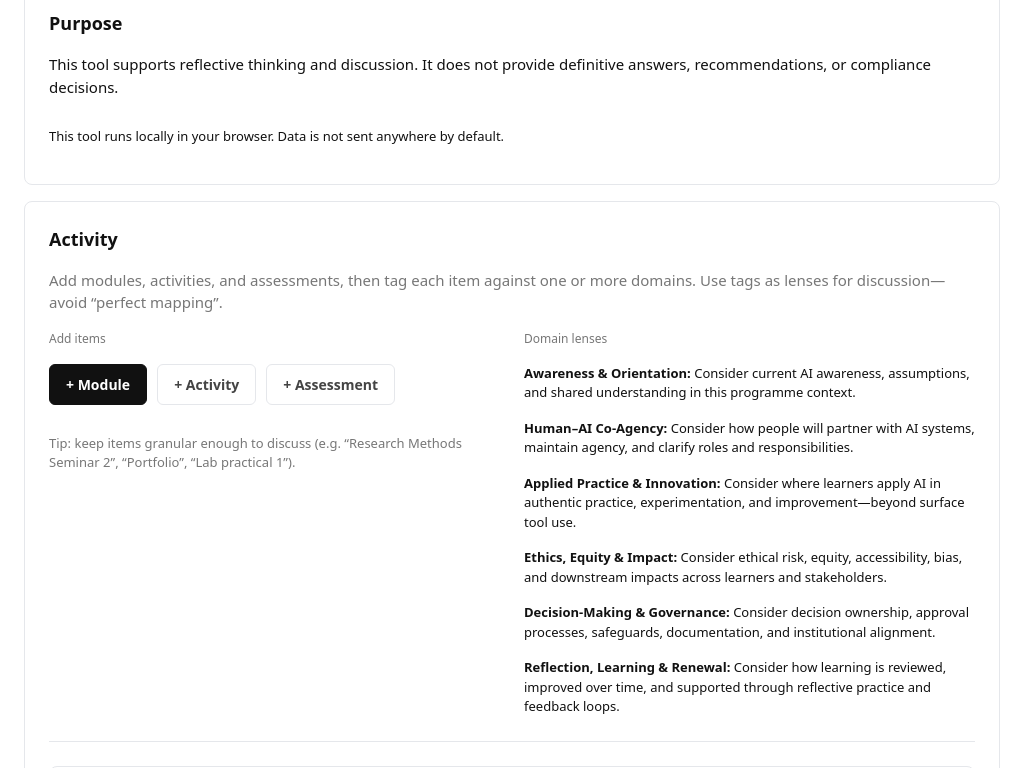
AI Capability Programme Mapping — Regression Tests › 3. Map items CRUD and intensity weighting › allows removing an item when more than one exists
(page scrolled)
Click the button "+ Activity" at point(207, 384), box x1=157 y1=364 x2=256 y2=404
(page scrolled)
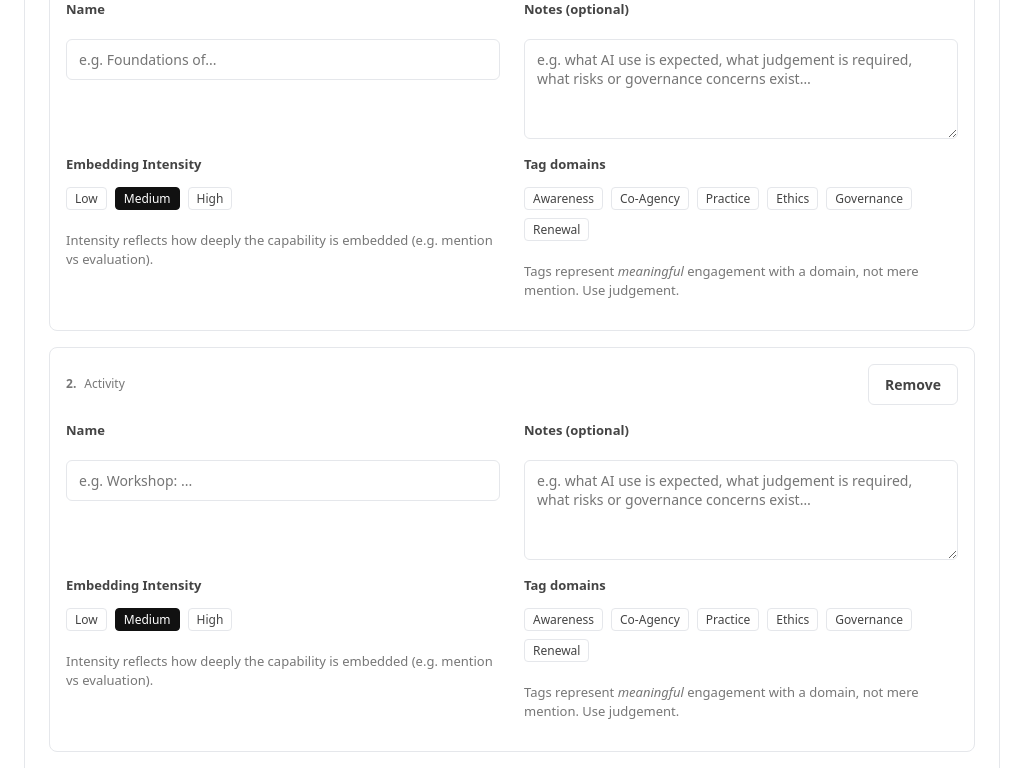
Click the button "Remove" at point(913, 384), box x1=868 y1=364 x2=958 y2=404
(page scrolled)
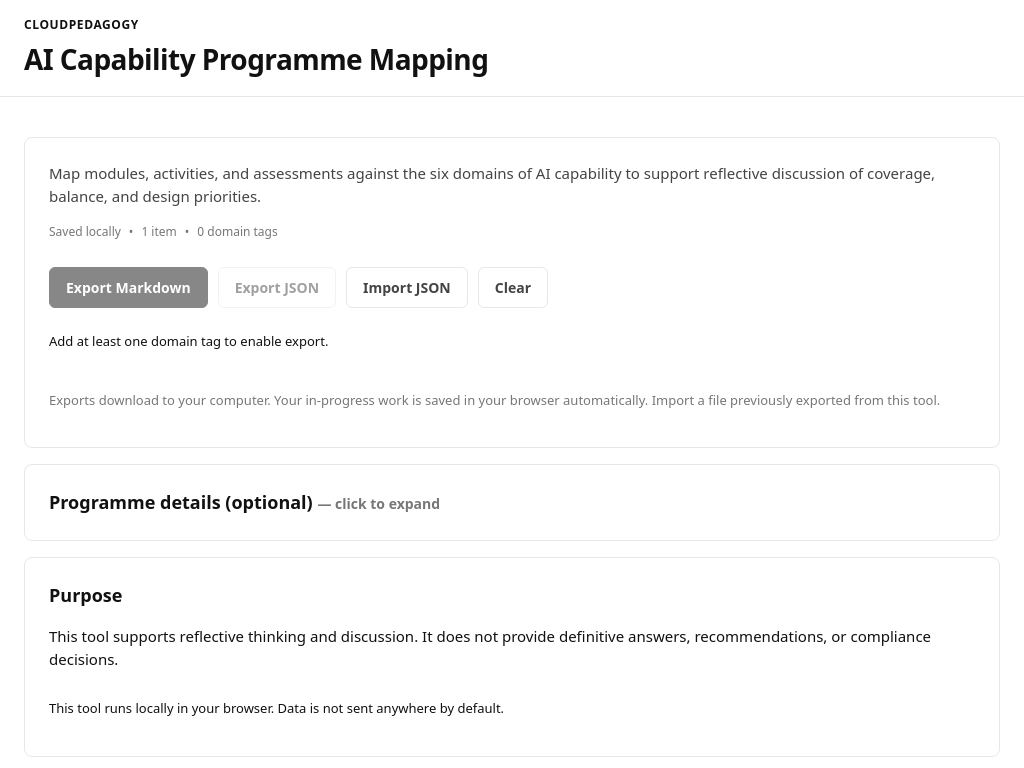
Now the text "1 item" is shown, box x1=141 y1=223 x2=177 y2=241
